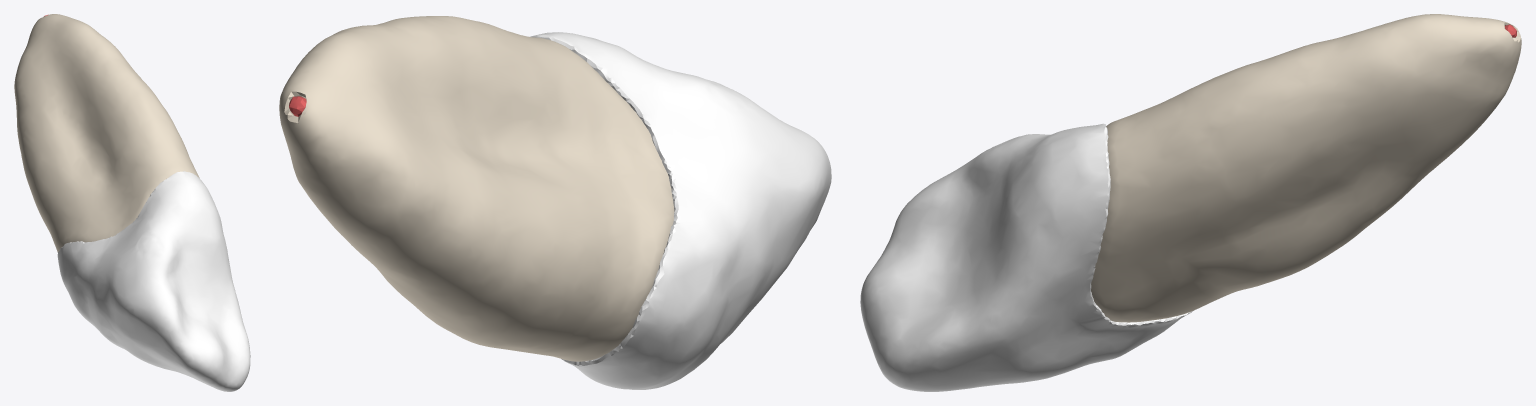
Rendered from 恒牙下颌尖牙.fbx.
The picture shows the model from 3 angles, left to right: view 1: azimuth 30°, elevation 25°; view 2: azimuth 150°, elevation 25°; view 3: azimuth 270°, elevation 25°; orthographic projection. The views are drawn at different scales.
Parts seen in each view (by area): view 1: texture_B, texture_W; view 2: texture_B, texture_W; view 3: texture_B, texture_W.
Part boxes in pixels (x1,y1,x2,y2): texture_B: (14, 14, 199, 252); texture_W: (57, 171, 250, 391); texture_B: (279, 16, 674, 361); texture_W: (529, 32, 831, 389); texture_B: (1091, 14, 1521, 322); texture_W: (860, 123, 1192, 391).
Bounding box in the file's own units: 9.42 × 16.82 × 26.23.
3 materials, 3 textured.
